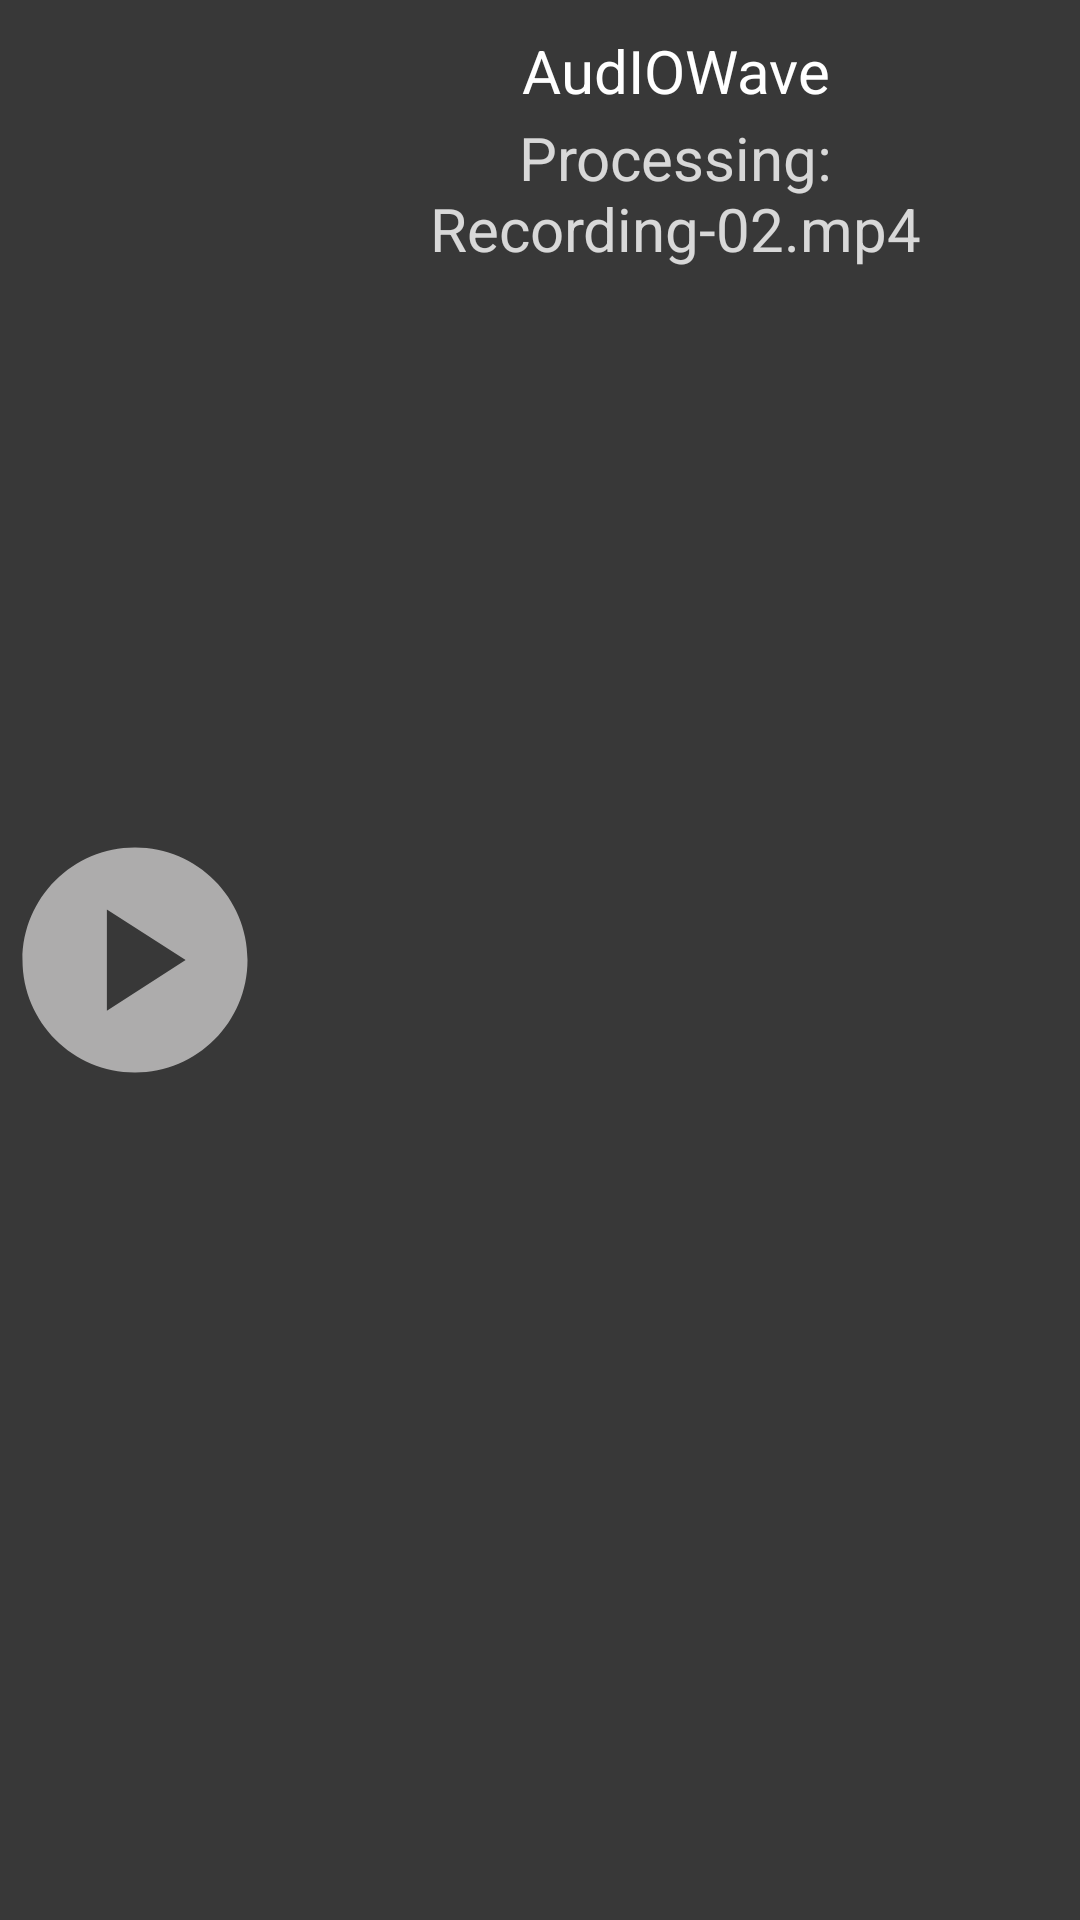

Point at icon controls on the screen. Image size 1080px×1920px, points as (x=x, y=y).
play circle: (x=135, y=960)
